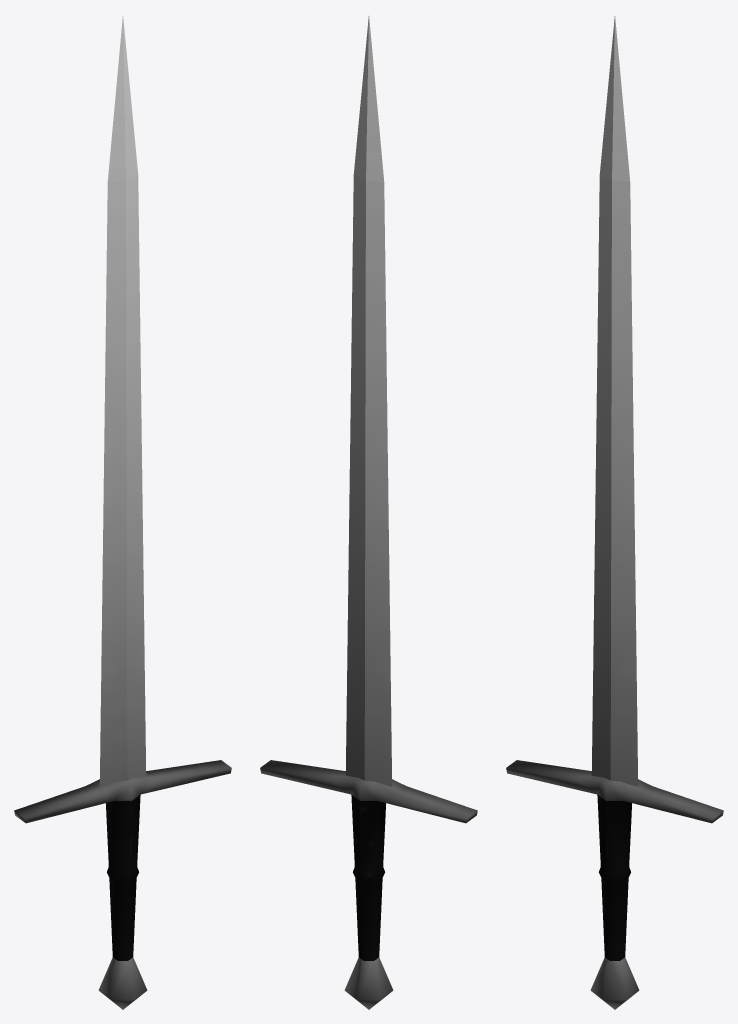
File: wraith_sword.fbx
3 views of the same model, side by side, from view 1: azimuth 30°, elevation 25°; view 2: azimuth 150°, elevation 25°; view 3: azimuth 330°, elevation 25° (orthographic).
Visible parts, largest first — view 1: Plane.001; view 2: Plane.001; view 3: Plane.001.
Boxes of the visible parts, x1,y1,x2,y2 form: Plane.001: (14,16,231,1009); Plane.001: (260,16,477,1009); Plane.001: (506,16,723,1009).
Bounding box in the file's own units: 1.11 × 5.09 × 0.2272.
1 material, 1 textured.
